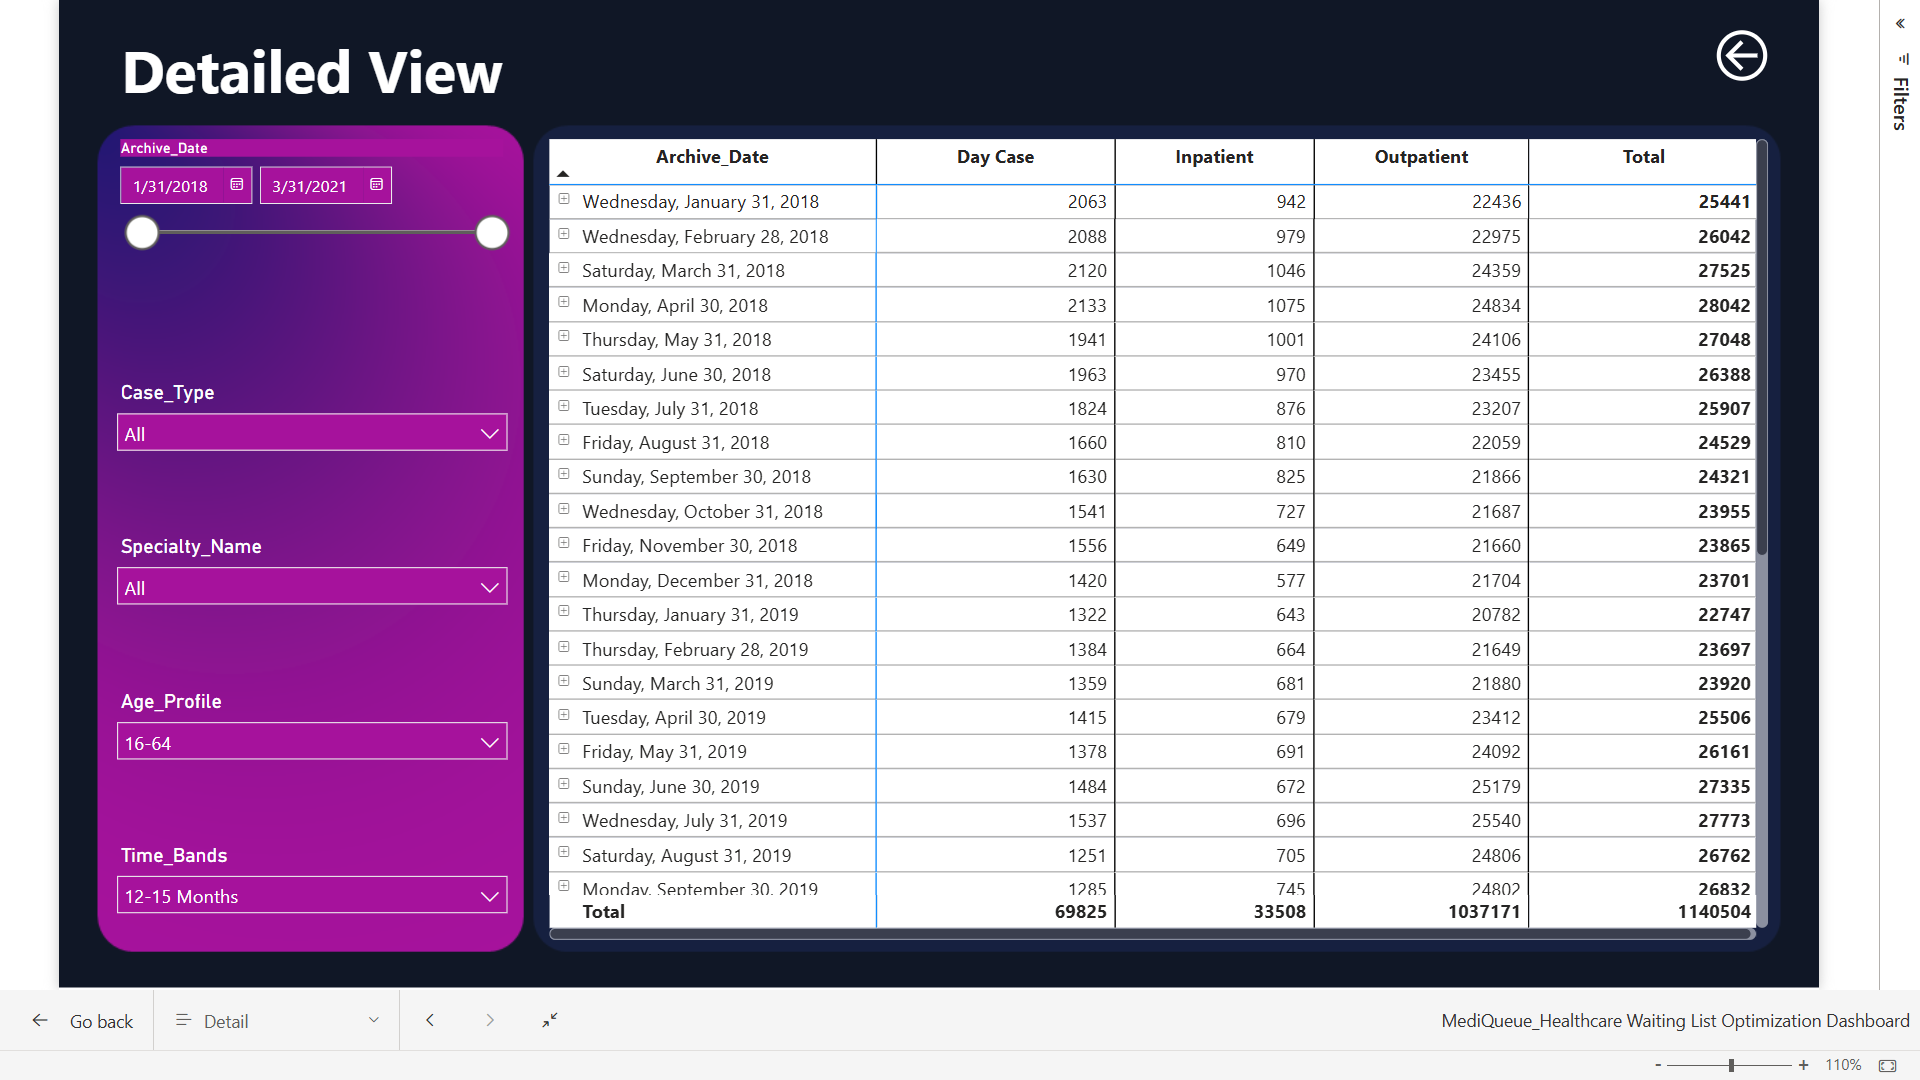

This screenshot's page, from the dashboard's own definition file:
{"tool":"powerbi","page":{"name":"Detail","canvas":[1280,720],"ordinal":1},"visuals":[{"type":"slicer","fields":{"Values":["All_Data.Archive_Date"]},"box":[32,96,304,128],"z":0},{"type":"slicer","fields":{"Values":["All_Data.Case_Type"]},"box":[32,272,304,64],"z":1000},{"type":"slicer","fields":{"Values":["All_Data.Specialty_Name"]},"box":[32,384,304,64],"z":2000},{"type":"textbox","box":[0,16,368,80],"z":3000},{"type":"slicer","fields":{"Values":["All_Data.Age_Profile"]},"box":[32,496,304,64],"z":4000},{"type":"slicer","fields":{"Values":["All_Data.Time_Bands"]},"box":[32,608,304,64],"z":5000},{"type":"pivotTable","fields":{"Rows":["All_Data.Archive_Date","All_Data.Specialty_Name","All_Data.Age_Profile","All_Data.Time_Bands"],"Columns":["All_Data.Case_Type"],"Values":["Sum(All_Data.Total)"]},"box":[352,96,896,592],"z":6000},{"type":"actionButton","box":[1200,16,80,48],"z":6001}]}

Visuals, with their boxes in screenshot pixels (x1, y1, x2, y2):
slicer - All_Data.Archive_Date: {"x1": 86, "y1": 137, "x2": 519, "y2": 320}
slicer - All_Data.Case_Type: {"x1": 86, "y1": 388, "x2": 519, "y2": 479}
slicer - All_Data.Specialty_Name: {"x1": 86, "y1": 548, "x2": 519, "y2": 639}
textbox: {"x1": 40, "y1": 23, "x2": 565, "y2": 137}
slicer - All_Data.Age_Profile: {"x1": 86, "y1": 708, "x2": 519, "y2": 799}
slicer - All_Data.Time_Bands: {"x1": 86, "y1": 868, "x2": 519, "y2": 959}
pivotTable - All_Data.Archive_Date x All_Data.Specialty_Name: {"x1": 542, "y1": 137, "x2": 1821, "y2": 982}
actionButton: {"x1": 1752, "y1": 23, "x2": 1866, "y2": 91}
